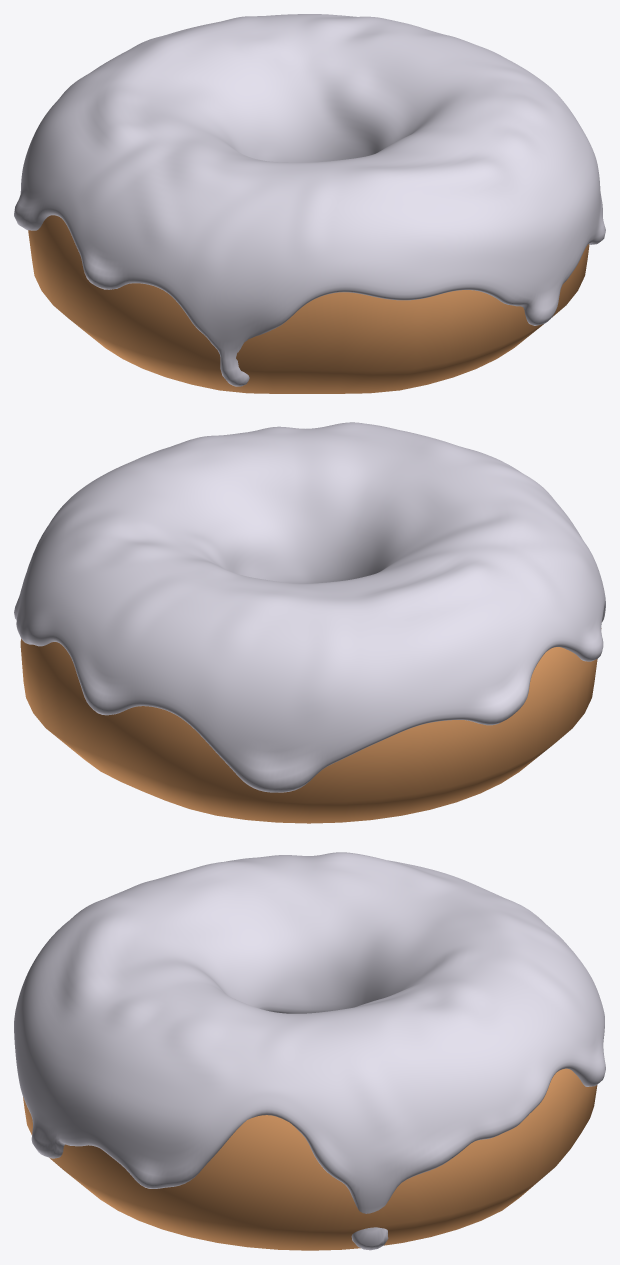
Rendered from donut.glb.
3 views of the same model, one above another, from view 1: azimuth 30°, elevation 25°; view 2: azimuth 150°, elevation 25°; view 3: azimuth 270°, elevation 25° (orthographic). The views are drawn at different scales.
Visible parts, largest first — view 1: Glaze, Donut; view 2: Glaze, Donut; view 3: Glaze, Donut.
Part boxes in pixels (x1=…): Glaze: x1=14, y1=14, x2=605, y2=386; Donut: x1=28, y1=215, x2=589, y2=393; Glaze: x1=14, y1=422, x2=605, y2=792; Donut: x1=20, y1=628, x2=601, y2=823; Glaze: x1=14, y1=852, x2=605, y2=1250; Donut: x1=23, y1=1068, x2=597, y2=1250.
Size of the model in its own units: 1.27 by 0.5266 by 1.26.
